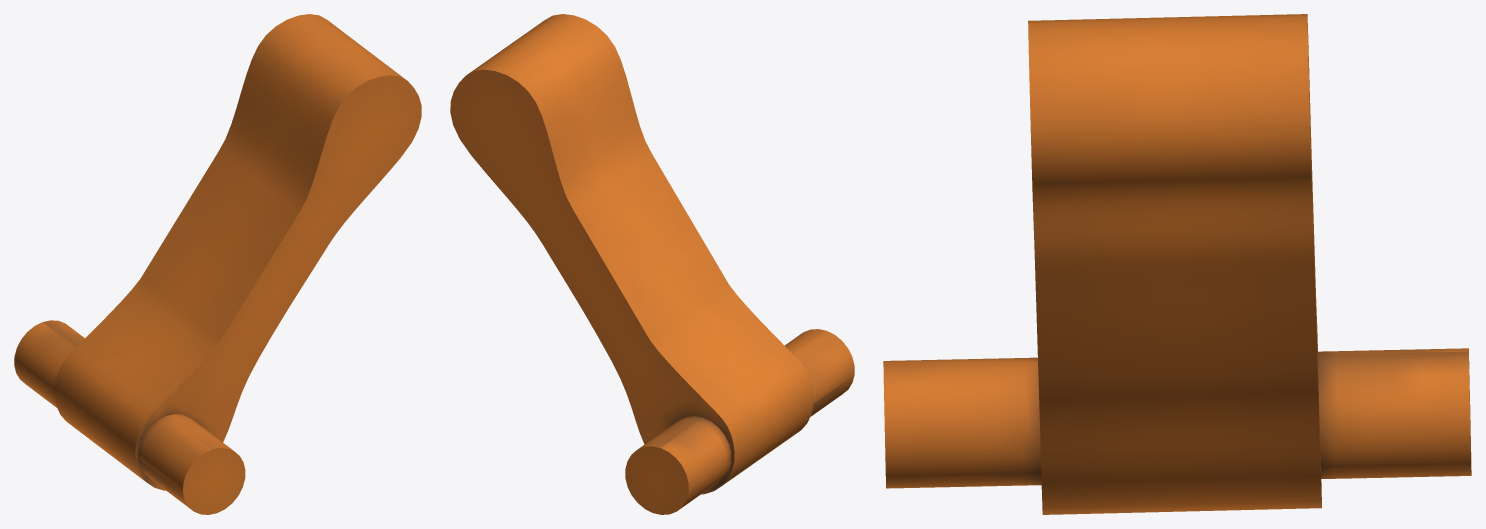
3 renders of one model, left to right at view 1: azimuth 30°, elevation 25°; view 2: azimuth 150°, elevation 25°; view 3: azimuth 270°, elevation 25°, orthographic. The views are drawn at different scales.
Visible parts, largest first — view 1: arm-bac-part2.002; view 2: arm-bac-part2.002; view 3: arm-bac-part2.002.
Boxes of the visible parts, <box> form: arm-bac-part2.002: <box>14,14,421,514</box>; arm-bac-part2.002: <box>450,14,854,514</box>; arm-bac-part2.002: <box>883,14,1471,514</box>.
Bounding box in the file's own units: 0.4741 × 0.482 × 0.5896.
1 material, 1 textured.
